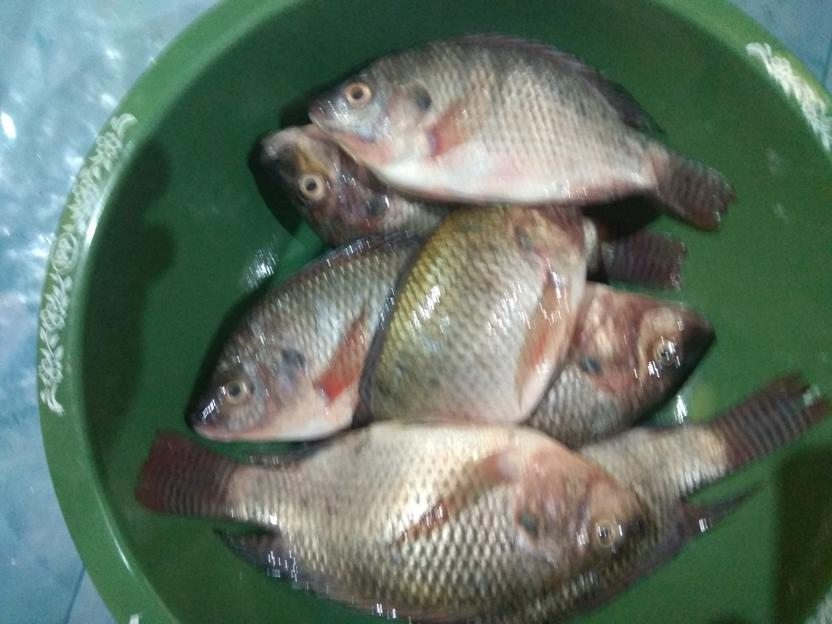Fish head: (522, 444, 653, 587), (586, 290, 715, 423), (258, 123, 386, 246), (305, 51, 430, 168), (189, 342, 310, 442)
Fish tail: (707, 371, 828, 477), (134, 426, 247, 524), (658, 146, 738, 235), (594, 221, 689, 294)
